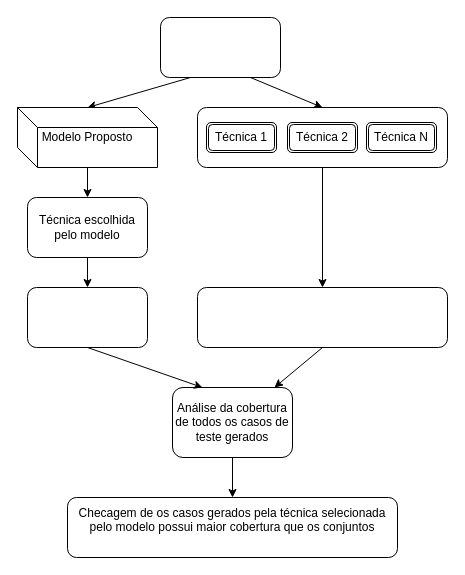
Some shapes in this 465 by 575 pixel diagram are drawn without their labels. The shapes that lost their labels are listed below. From the top down, each one's box as (x1, y1, x2, y2) in pixels, then its label:
(160, 16, 280, 78): Software em Análise
(26, 286, 148, 348): Casos de Teste Gerados
(196, 286, 448, 348): Conjunto de Casos de Teste Gerados pelas Técnicas isoladamente
